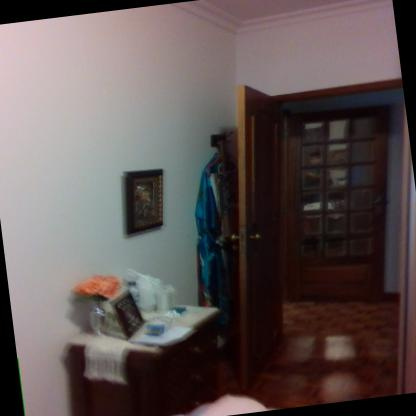open: (206, 51, 415, 404)
